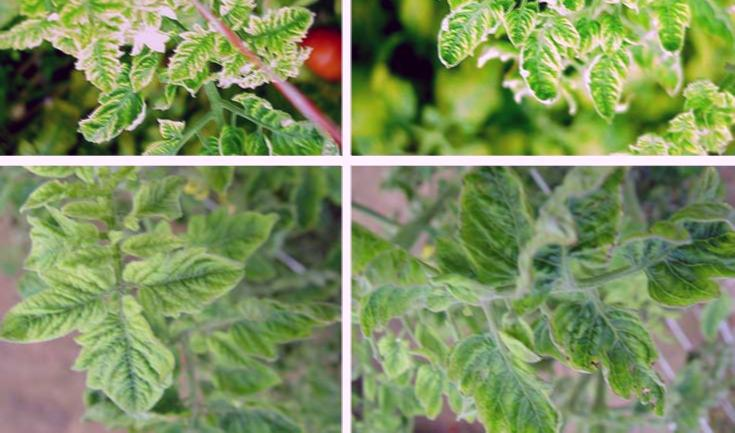Tomato mold leaf: (430, 320, 571, 433), (72, 297, 189, 422), (117, 247, 262, 324), (456, 166, 542, 291), (0, 269, 115, 357)
